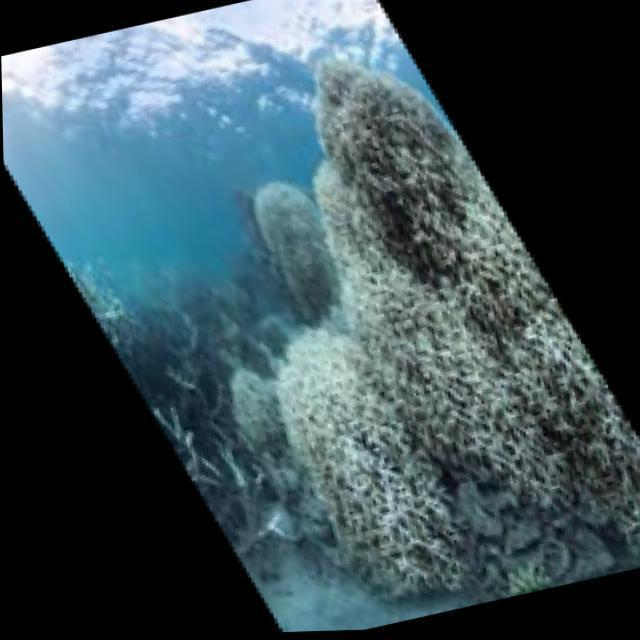Dead Coral: (86, 254, 290, 586), (300, 26, 538, 297)
